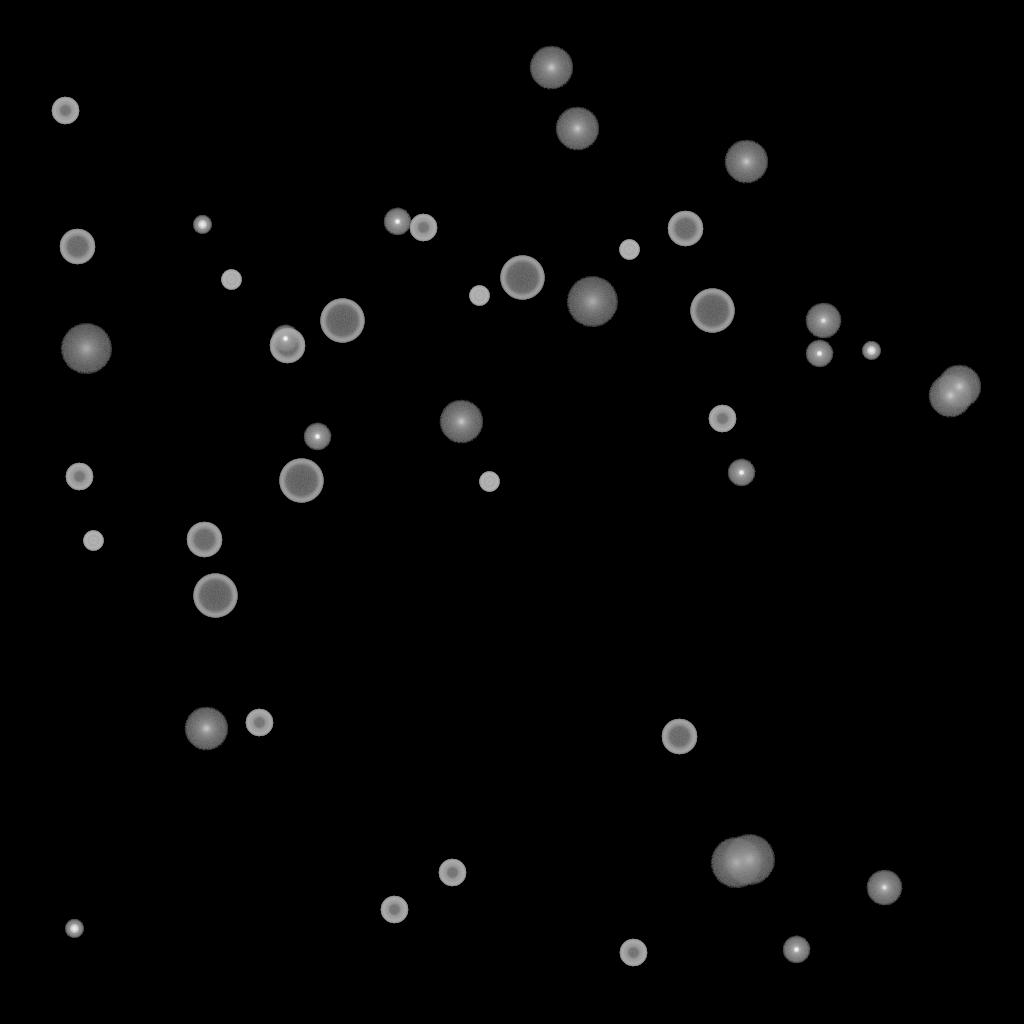depth:-10: (805, 340, 833, 368), (271, 325, 299, 353), (727, 459, 755, 487), (782, 936, 810, 964), (383, 208, 411, 236), (303, 423, 331, 451)
depth:-20: (65, 920, 83, 938), (862, 342, 880, 360), (193, 216, 211, 234)
depth:-40: (619, 240, 639, 260), (469, 286, 489, 306), (479, 472, 499, 492), (83, 531, 103, 551), (221, 270, 241, 290)
depth:-50: (409, 214, 437, 242), (438, 859, 466, 887), (708, 405, 736, 433), (619, 939, 647, 967), (51, 97, 79, 125), (65, 463, 93, 491), (380, 896, 408, 924), (245, 709, 273, 737)
depth:-60: (661, 719, 697, 755), (59, 229, 95, 265), (667, 211, 703, 247), (186, 522, 222, 558), (269, 328, 305, 364)
depth:-70: (279, 459, 323, 503), (500, 256, 544, 300), (320, 299, 364, 343), (690, 289, 734, 333), (193, 574, 237, 618)
depth:0: (866, 870, 902, 906), (805, 303, 841, 339)
depth:10: (724, 140, 768, 184), (937, 365, 981, 409), (439, 400, 483, 444), (184, 707, 228, 751), (529, 46, 573, 90), (928, 374, 972, 418), (555, 107, 599, 151)
depth:20: (723, 835, 775, 885), (710, 838, 762, 888), (60, 324, 112, 374), (566, 277, 618, 327)
